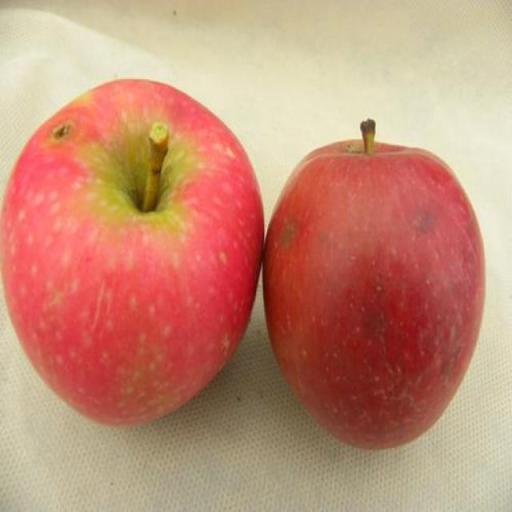fruit: (0, 80, 263, 424), (264, 121, 484, 447)
